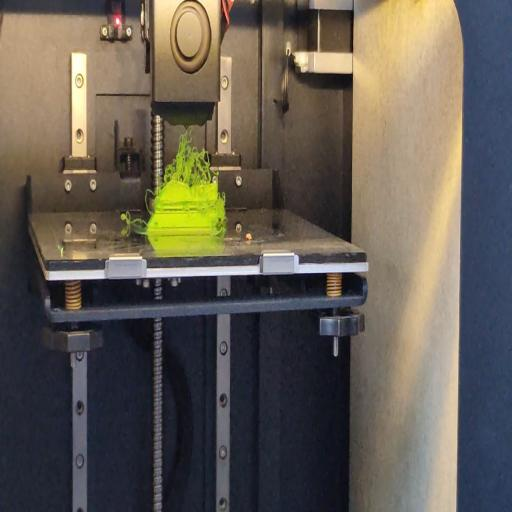spaghetti: (163, 131, 218, 190), (120, 215, 148, 238), (146, 183, 157, 221), (216, 225, 227, 237)
